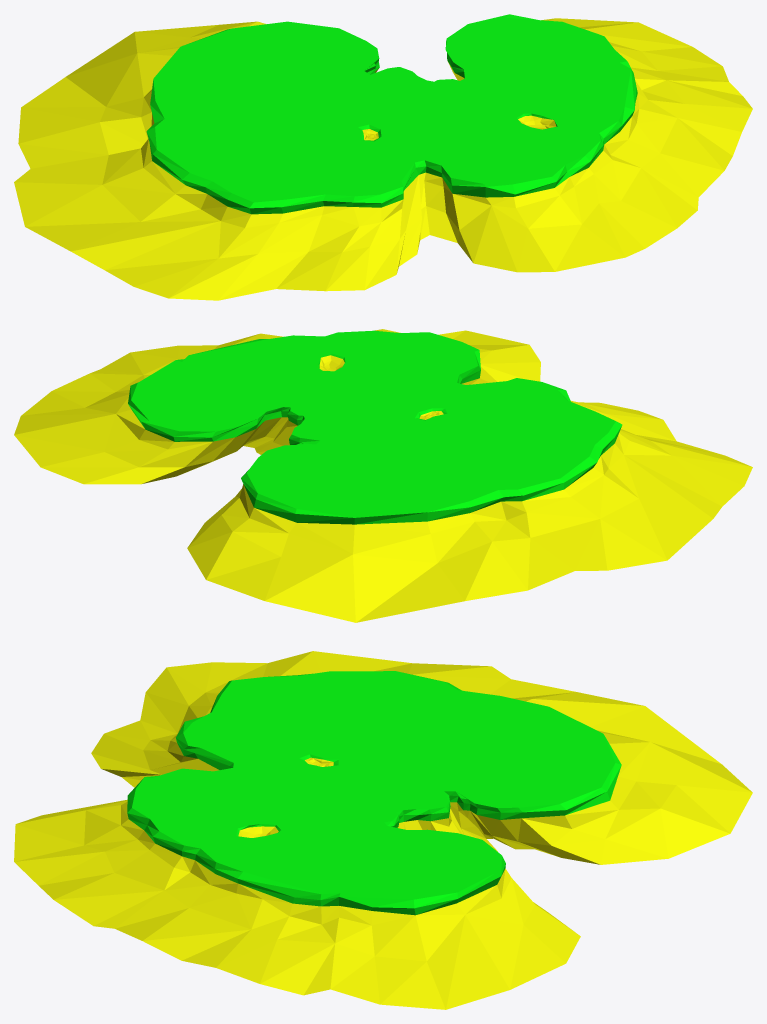
The model's file is Terrain.FBX.
The picture shows the model from 3 angles, top to bottom: view 1: azimuth 30°, elevation 25°; view 2: azimuth 150°, elevation 25°; view 3: azimuth 270°, elevation 25°; orthographic projection. The views are drawn at different scales.
Visible parts, largest first — view 1: Sand, Grass; view 2: Sand, Grass; view 3: Sand, Grass.
Part boxes in pixels (bbox=[...]): Sand: bbox=[14, 18, 752, 300]; Grass: bbox=[146, 14, 637, 214]; Sand: bbox=[14, 329, 752, 622]; Grass: bbox=[128, 330, 622, 524]; Sand: bbox=[14, 651, 752, 1009]; Grass: bbox=[127, 671, 621, 915].
Bounding box in the file's own units: 40914 × 36608 × 3293.
